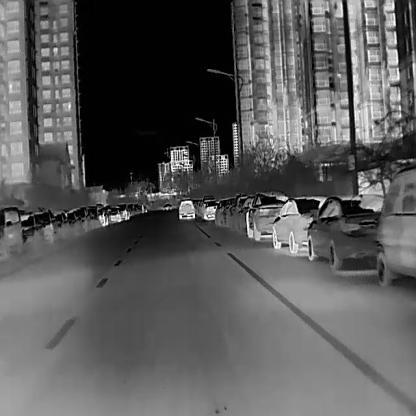car: (306, 192, 384, 269), (374, 164, 415, 287), (270, 194, 326, 253), (245, 189, 289, 240), (0, 204, 22, 259), (18, 211, 44, 249), (35, 207, 57, 243), (228, 192, 248, 230), (214, 197, 227, 226), (200, 198, 217, 219), (178, 198, 195, 218), (107, 205, 121, 222), (117, 202, 130, 219), (161, 202, 172, 209)
